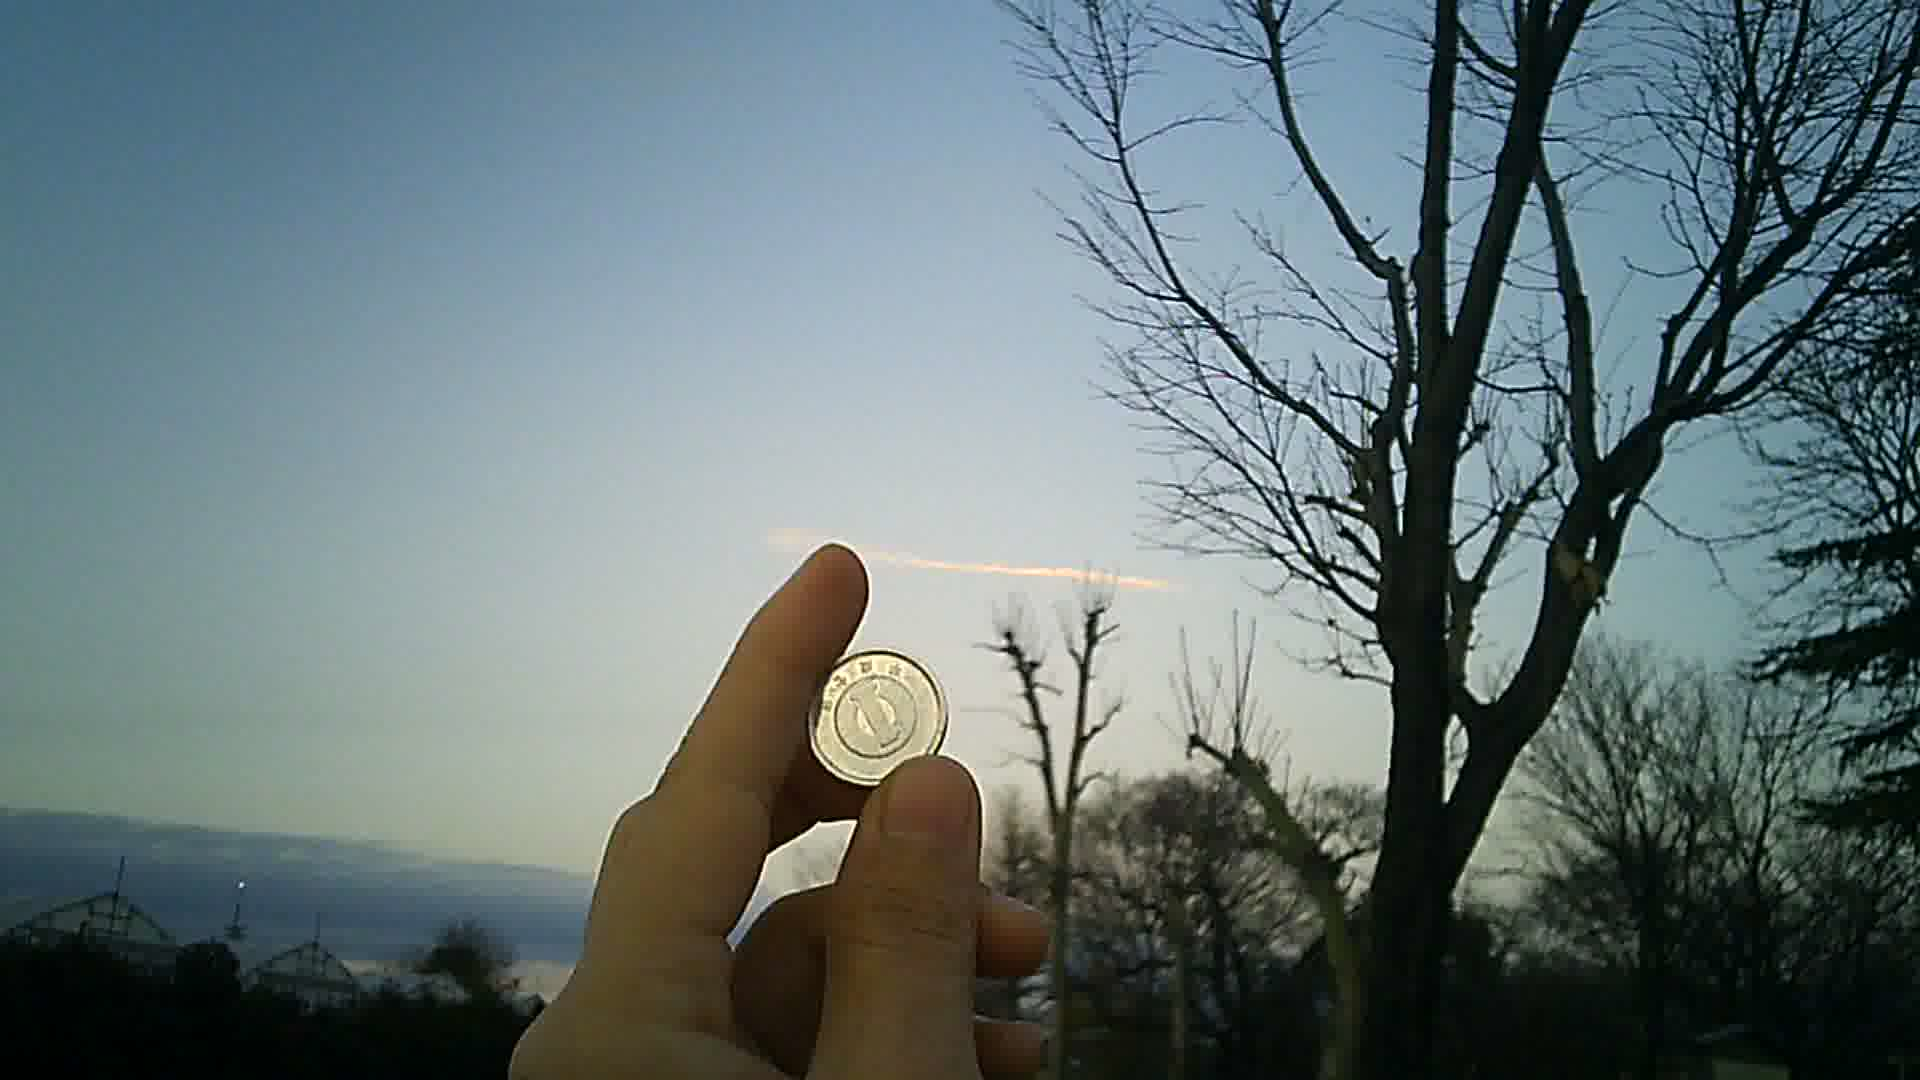1 Yen: (790, 636, 956, 785)
